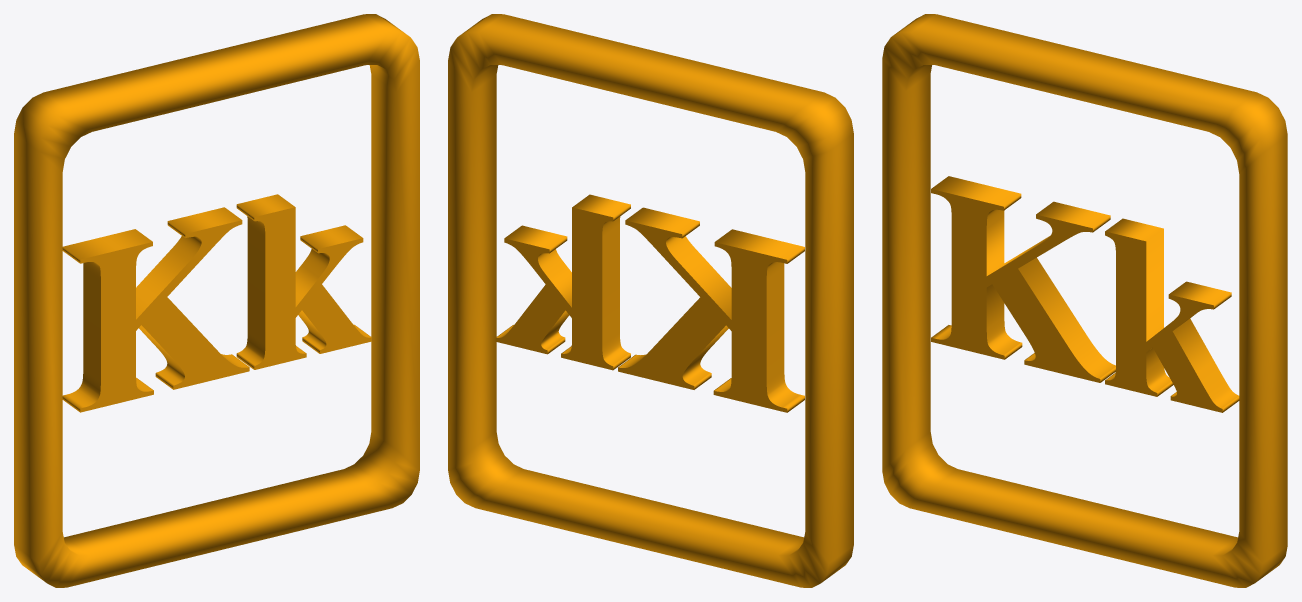
The model's file is Letter_K.gltf.
3 renders of one model, left to right at view 1: azimuth 30°, elevation 25°; view 2: azimuth 150°, elevation 25°; view 3: azimuth 330°, elevation 25°, orthographic.
Visible parts, largest first — view 1: Letters.012; view 2: Letters.012; view 3: Letters.012.
Boxes of the visible parts, bbox=[...] form: Letters.012: bbox=[14, 14, 419, 587]; Letters.012: bbox=[448, 14, 853, 587]; Letters.012: bbox=[882, 14, 1287, 587].
Size of the model in its own units: 1.25 by 1.49 by 0.1418.
